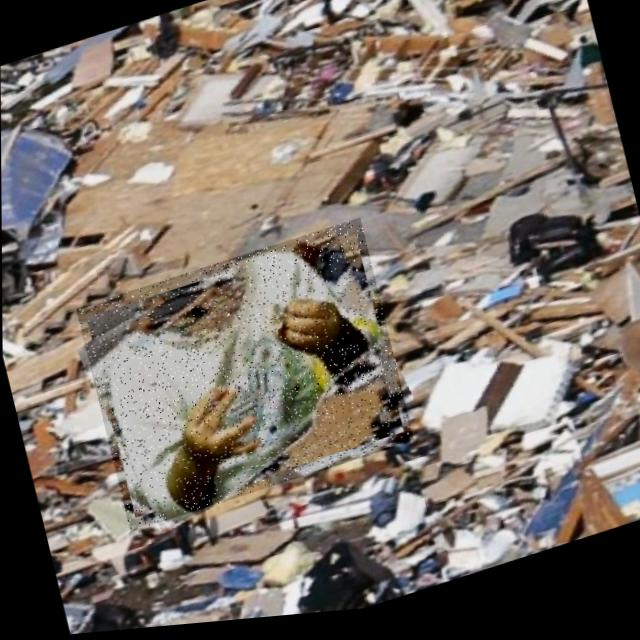Person in Rubble: (75, 220, 414, 537)
